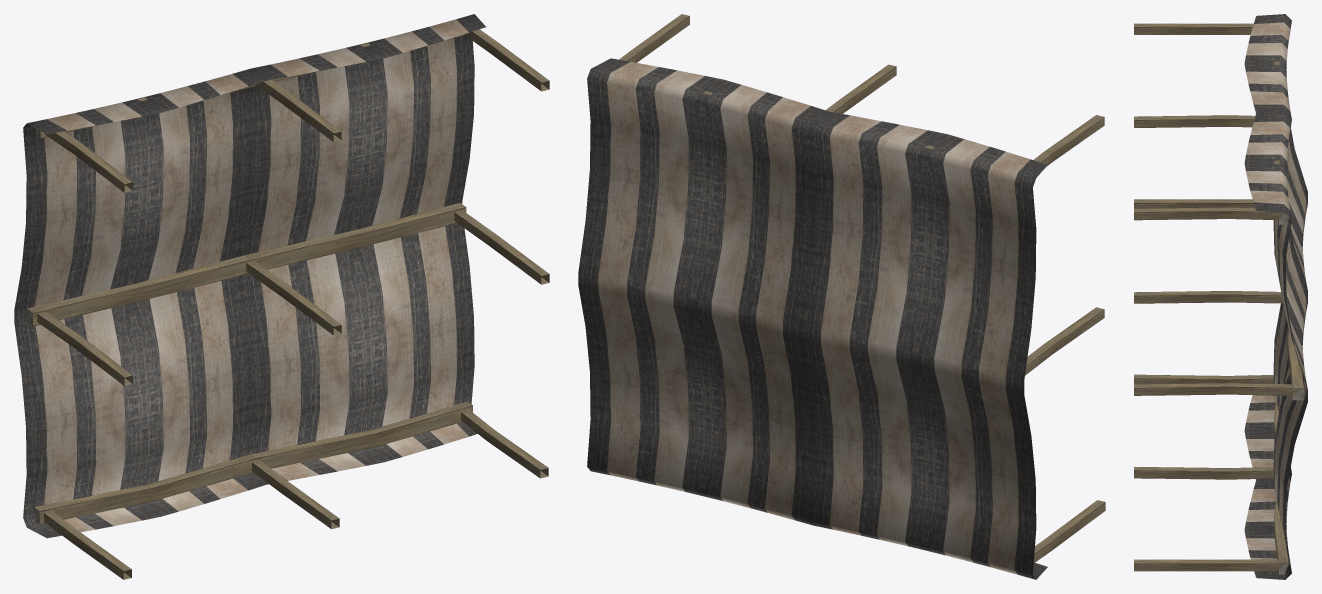
Rendered from Merchant_Tent_Type_01_D.fbx.
3 views of the same model, side by side, from view 1: azimuth 30°, elevation 25°; view 2: azimuth 150°, elevation 25°; view 3: azimuth 270°, elevation 25° (orthographic). The views are drawn at different scales.
Visible parts, largest first — view 1: Merchant_Tent_Type_01_D; view 2: Merchant_Tent_Type_01_D; view 3: Merchant_Tent_Type_01_D.
Boxes of the visible parts, <box> form: Merchant_Tent_Type_01_D: <box>14,14,549,579</box>; Merchant_Tent_Type_01_D: <box>578,14,1105,579</box>; Merchant_Tent_Type_01_D: <box>1134,14,1307,579</box>.
Size of the model in its own units: 10.52 by 9.08 by 3.89.
